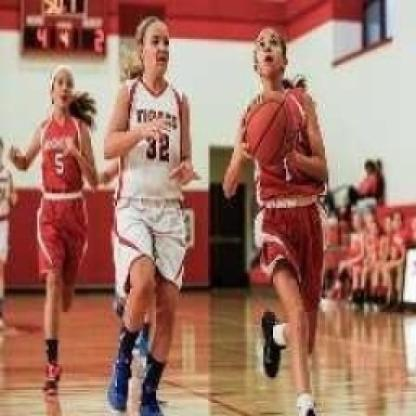basketball: (240, 88, 305, 167)
